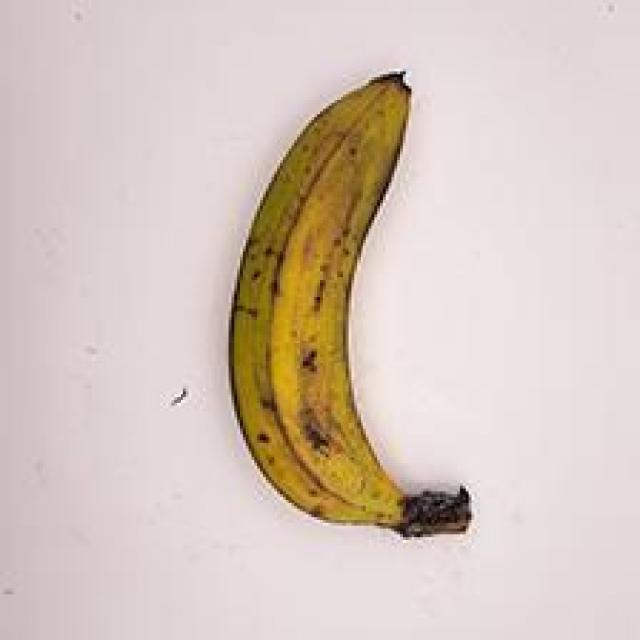Overripe: (214, 41, 500, 565)
